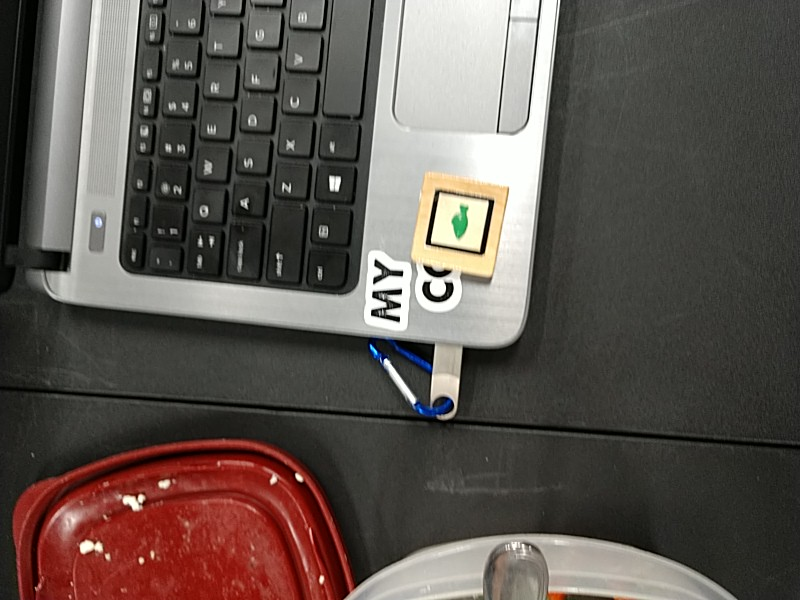Fish Tile: (424, 189, 495, 256)
